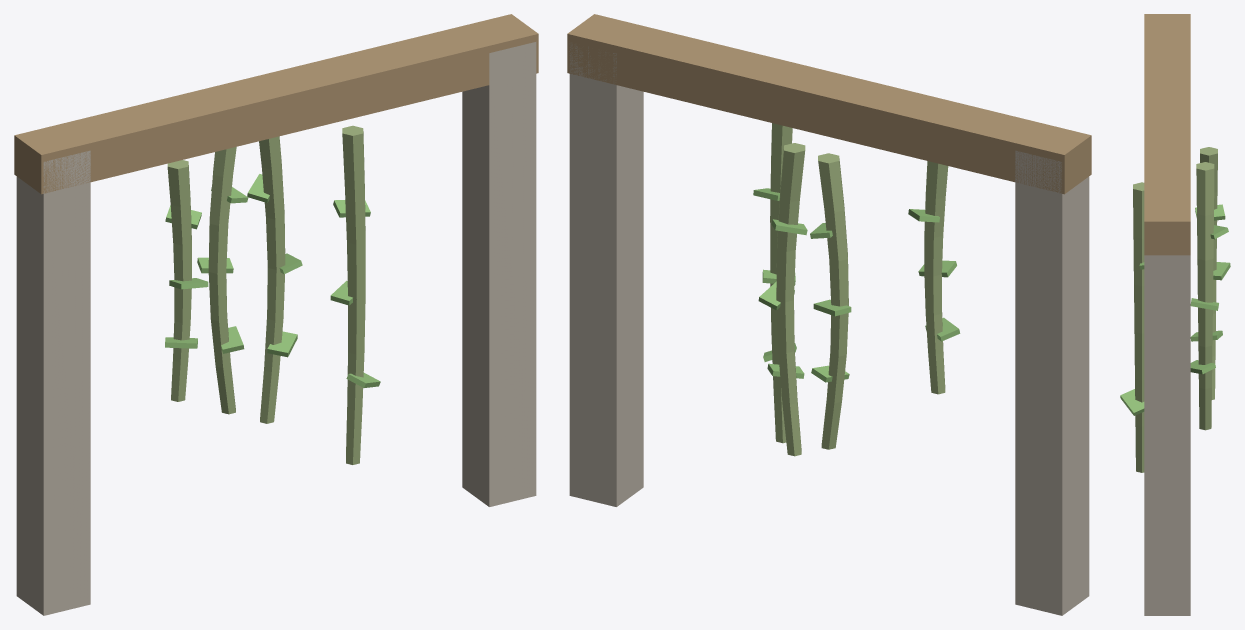
File: 50-Vegetacion_liana_colgante.glb
3 renders of one model, left to right at view 1: azimuth 30°, elevation 25°; view 2: azimuth 150°, elevation 25°; view 3: azimuth 270°, elevation 25°, orthographic. The views are drawn at different scales.
Visible parts, largest first — view 1: SM_Liana_M_Piedra_Liana, SM_Liana_M_Madera_Liana, SM_Liana_M_Tallo_Liana, SM_Liana_M_Hoja_Liana; view 2: SM_Liana_M_Piedra_Liana, SM_Liana_M_Madera_Liana, SM_Liana_M_Tallo_Liana, SM_Liana_M_Hoja_Liana; view 3: SM_Liana_M_Piedra_Liana, SM_Liana_M_Madera_Liana, SM_Liana_M_Tallo_Liana, SM_Liana_M_Hoja_Liana.
Boxes of the visible parts, x1,y1,x2,y2 form: SM_Liana_M_Piedra_Liana: (16, 42, 536, 615); SM_Liana_M_Madera_Liana: (14, 14, 538, 194); SM_Liana_M_Tallo_Liana: (167, 125, 365, 464); SM_Liana_M_Hoja_Liana: (165, 174, 380, 387); SM_Liana_M_Piedra_Liana: (569, 42, 1089, 615); SM_Liana_M_Madera_Liana: (567, 14, 1091, 194); SM_Liana_M_Tallo_Liana: (770, 123, 948, 456); SM_Liana_M_Hoja_Liana: (753, 188, 960, 382); SM_Liana_M_Piedra_Liana: (1144, 255, 1190, 615); SM_Liana_M_Madera_Liana: (1144, 14, 1190, 255); SM_Liana_M_Tallo_Liana: (1133, 147, 1217, 472); SM_Liana_M_Hoja_Liana: (1120, 204, 1230, 415).
Bounding box in the file's own units: 9.86 × 8.74 × 2.21.
